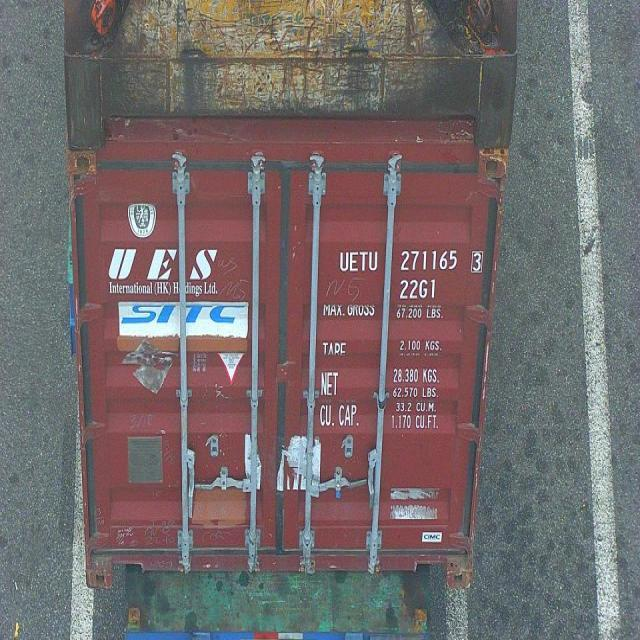ISO: (399, 276, 438, 300)
container_number: (336, 245, 484, 273)
